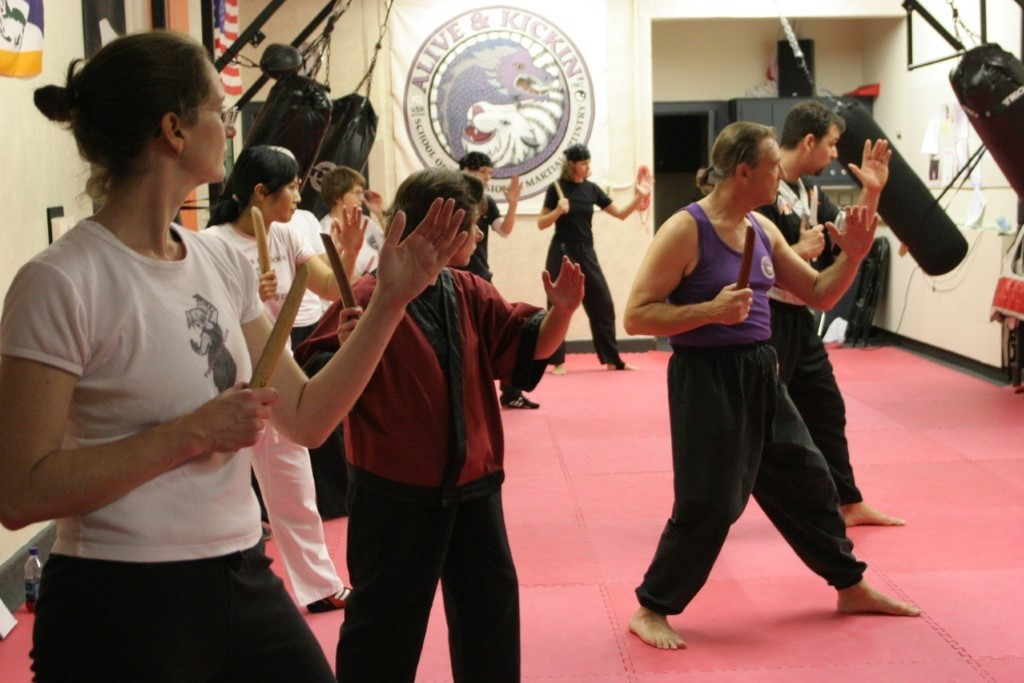baston_e: (244, 282, 312, 386), (320, 240, 359, 309), (249, 215, 272, 270), (735, 234, 754, 288), (552, 181, 564, 200)
baston_v: (285, 256, 320, 289), (317, 228, 337, 245), (744, 222, 762, 239), (247, 202, 264, 215)
